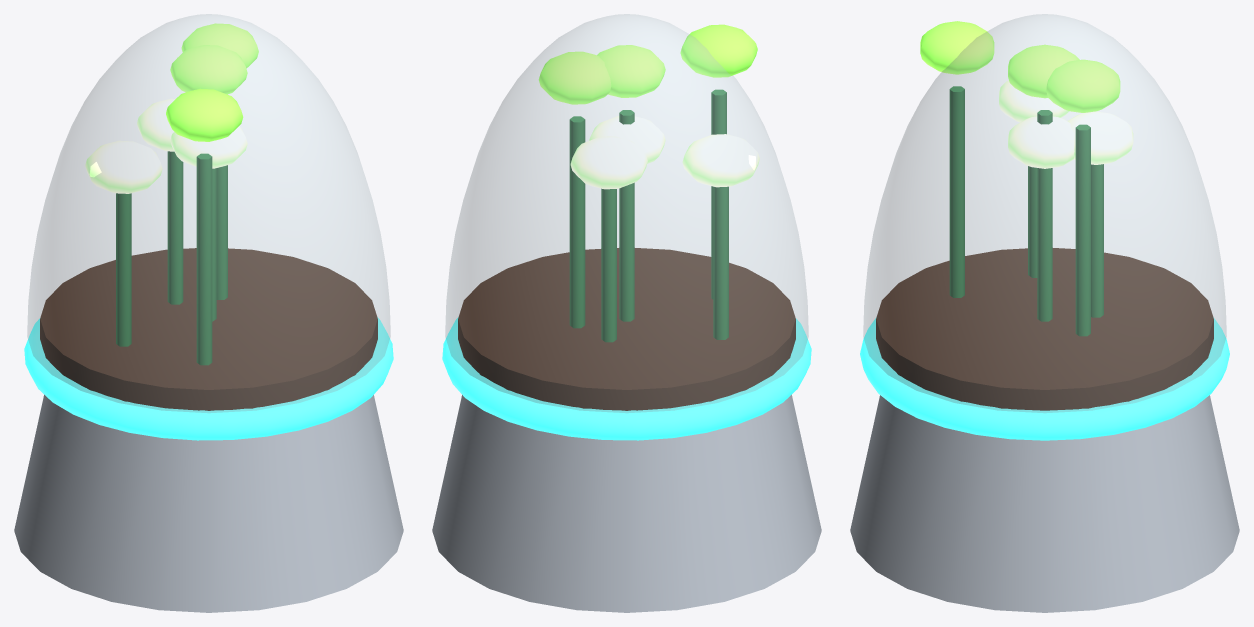
File: space_hydro.glb
3 views of the same model, side by side, from view 1: azimuth 30°, elevation 25°; view 2: azimuth 150°, elevation 25°; view 3: azimuth 270°, elevation 25° (orthographic).
Bounding box in the file's own units: 0.6 × 0.862 × 0.6.
